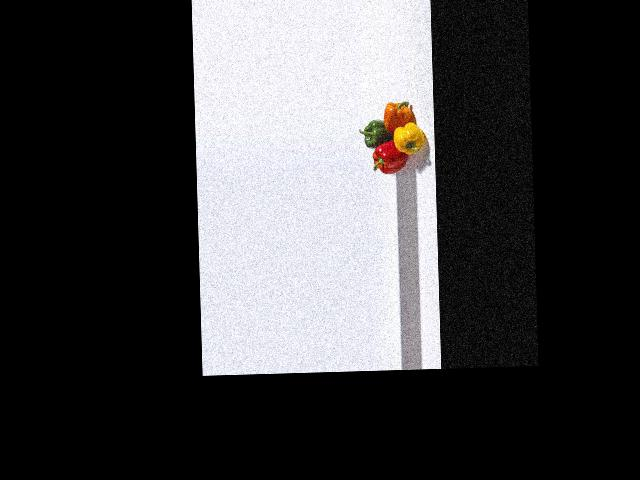bell_pepper: (368, 140, 408, 175)
